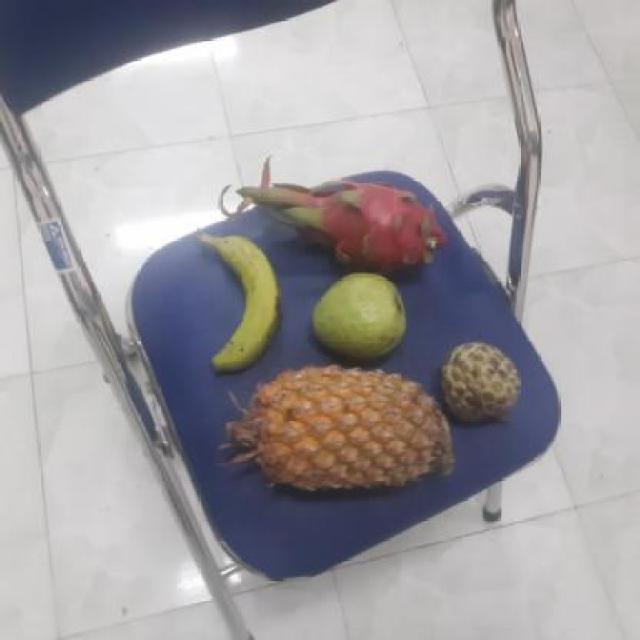banana: (204, 232, 284, 372)
dragon fruit: (295, 175, 439, 278)
guava: (309, 272, 413, 362)
pineapple: (229, 366, 457, 494)
sugar apple: (435, 342, 519, 424)
